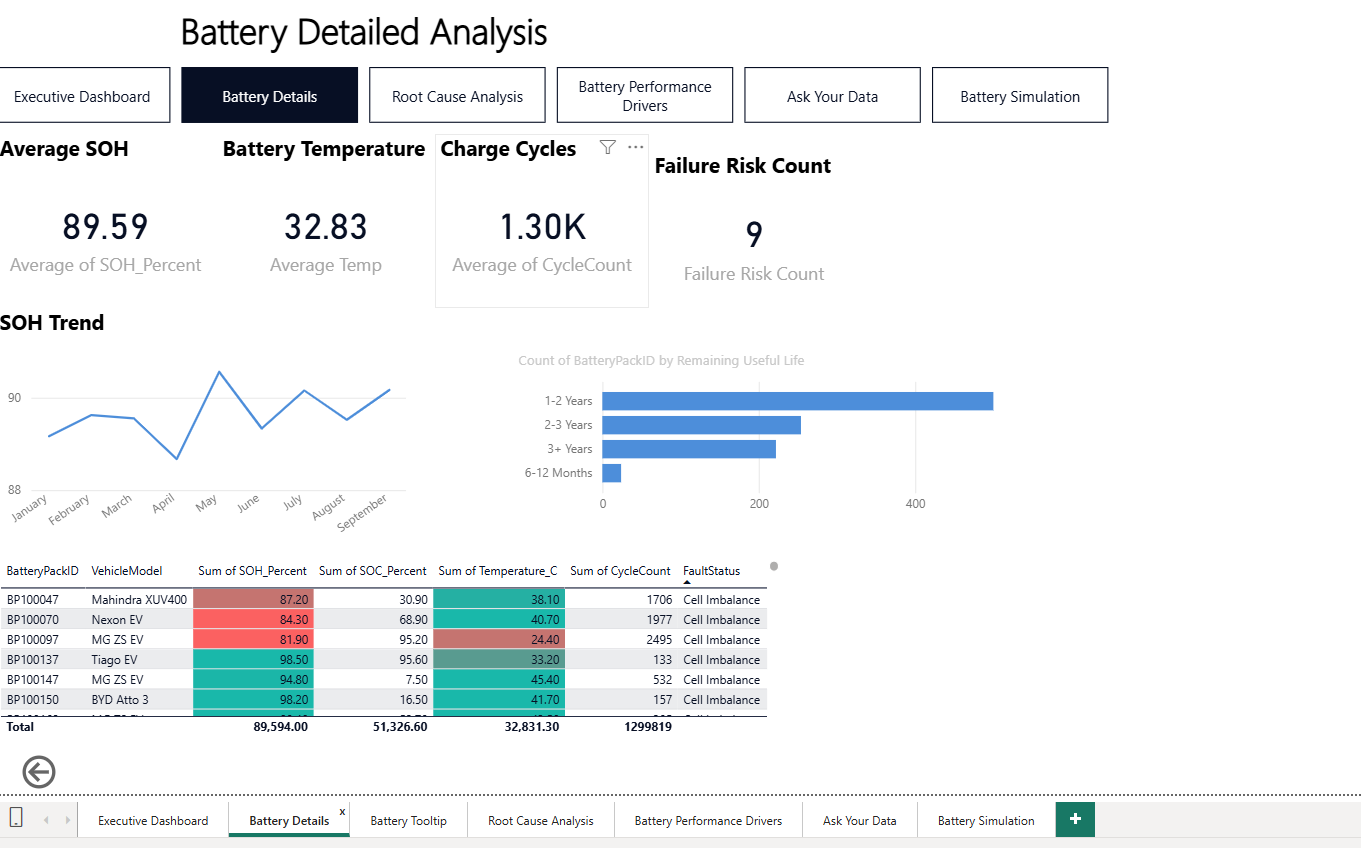

The page's visual inventory and layout, read from the dashboard file:
{"tool":"powerbi","page":{"name":"Battery Details","canvas":[1280,720],"ordinal":1},"visuals":[{"type":"tableEx","fields":{"Values":["Battery_Data.BatteryPackID","Battery_Data.VehicleModel","Sum(Battery_Data.SOH_Percent)","Sum(Battery_Data.SOC_Percent)","Sum(Battery_Data.Temperature_C)","Sum(Battery_Data.CycleCount)","Battery_Data.FaultStatus"]},"box":[0,506,708.4,166.6],"z":0},{"type":"card","title":"Average SOH","fields":{"Values":["Avg(Battery_Data.SOH_Percent)"]},"box":[0,129,199.7,155.8],"z":1000},{"type":"card","title":"Battery Temperature","fields":{"Values":["Battery_Data.Average Temp"]},"box":[199.7,129,195.2,155.8],"z":2000},{"type":"card","title":"Charge Cycles","fields":{"Values":["Avg(Battery_Data.CycleCount)"]},"box":[394.9,129,191.6,155.8],"z":3000},{"type":"lineChart","title":"SOH Trend","fields":{"Category":["Battery_Data.Date.Variation.Date Hierarchy.Month","Battery_Data.Date.Variation.Date Hierarchy.Day"],"Y":["Avg(Battery_Data.SOH_Percent)"]},"box":[0,284.8,374.3,214],"z":4000},{"type":"actionButton","box":[20.6,680.6,100.3,39.4],"z":5000},{"type":"textbox","box":[162.4,7.8,424.1,68.1],"z":6000},{"type":"card","title":"Failure Risk Count","fields":{"Values":["Battery_Data.Failure Risk Count"]},"box":[586.6,144.2,188.1,140.6],"z":7000},{"type":"pageNavigator","box":[0,69,1000.3,50.1],"z":8000},{"type":"barChart","fields":{"Category":["Battery_Data.Remaining Useful Life"],"Y":["CountNonNull(Battery_Data.BatteryPackID)"]},"box":[464.8,322.4,444.2,155.8],"z":8001}]}

Visuals, with their boxes on the page's 1280x720 design canvas (x1, y1, x2, y2). These are canvas units, not pixel positions in the 1361x848 screenshot, which may show the page scaled, cropped or inside an application window:
tableEx - Battery_Data.BatteryPackID x Battery_Data.VehicleModel: x1=0, y1=506, x2=708, y2=673
"Average SOH" card: x1=0, y1=129, x2=200, y2=285
"Battery Temperature" card: x1=200, y1=129, x2=395, y2=285
"Charge Cycles" card: x1=395, y1=129, x2=586, y2=285
"SOH Trend" lineChart: x1=0, y1=285, x2=374, y2=499
actionButton: x1=21, y1=681, x2=121, y2=720
textbox: x1=162, y1=8, x2=586, y2=76
"Failure Risk Count" card: x1=587, y1=144, x2=775, y2=285
pageNavigator: x1=0, y1=69, x2=1000, y2=119
barChart - Battery_Data.Remaining Useful Life x CountNonNull(Battery_Data.BatteryPackID): x1=465, y1=322, x2=909, y2=478
